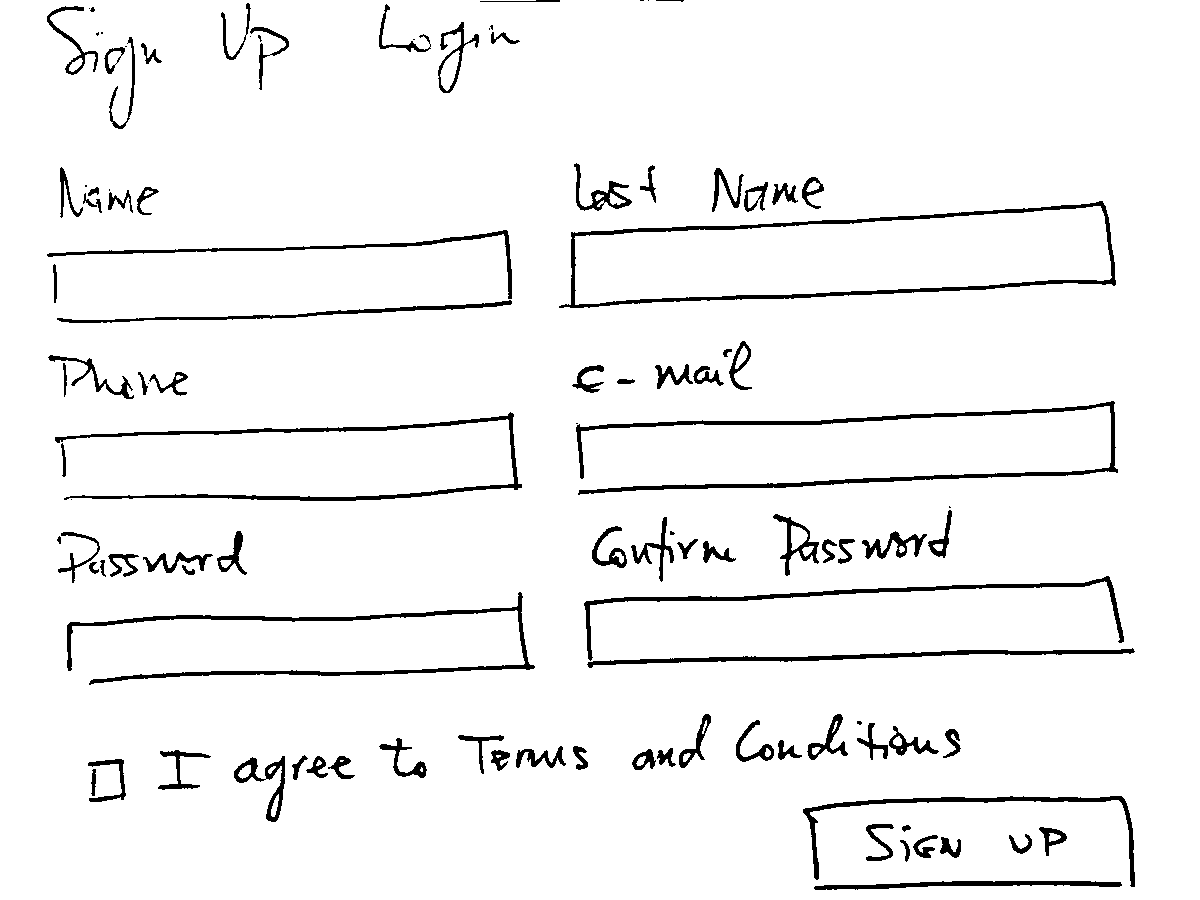Button: (799, 788, 1144, 900)
Check Box: (85, 729, 599, 825)
Label: (567, 153, 826, 219), (576, 341, 764, 403), (46, 339, 191, 407)
Textbox: (569, 200, 1119, 314), (573, 395, 1121, 498), (582, 572, 1138, 669), (580, 570, 1136, 667), (41, 226, 523, 325), (58, 409, 527, 503), (61, 603, 539, 687)
